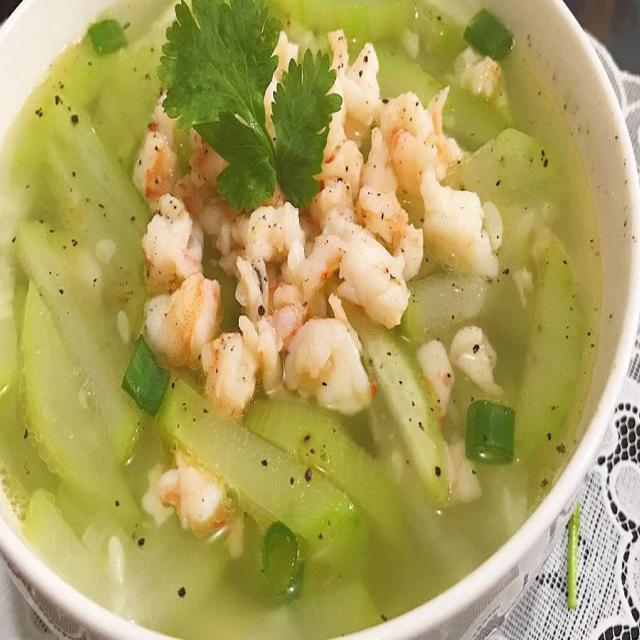canh bau: (14, 0, 597, 639)
